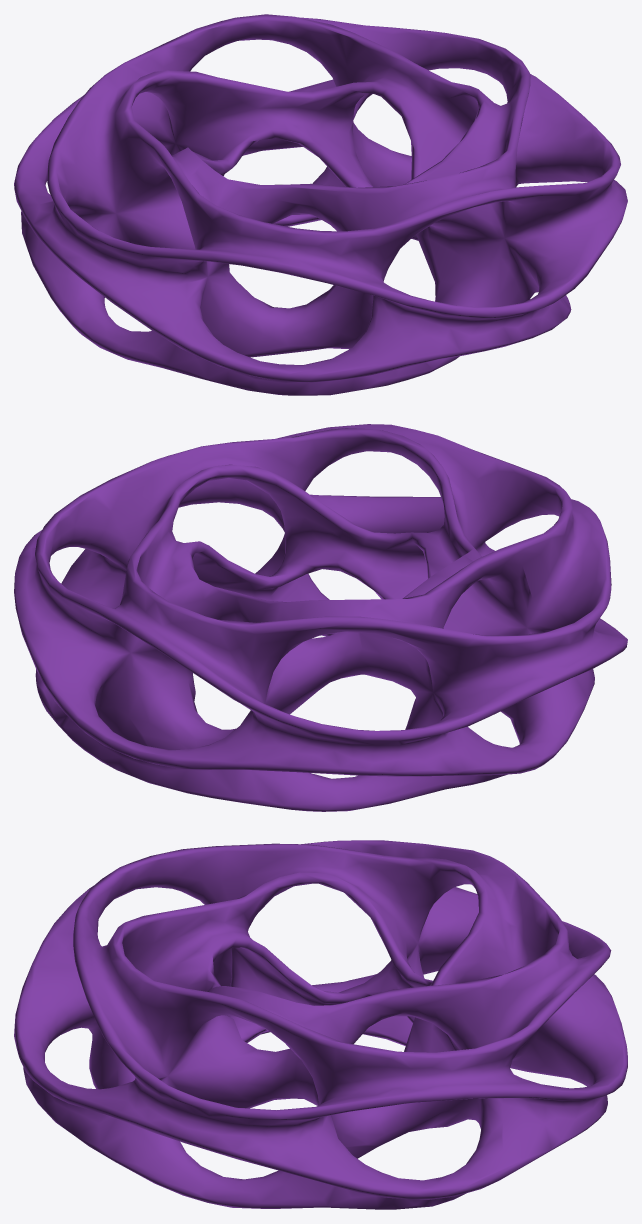
File: heptoroid8KN.obj
3 views of the same model, one above another, from view 1: azimuth 30°, elevation 25°; view 2: azimuth 150°, elevation 25°; view 3: azimuth 270°, elevation 25° (orthographic). The views are drawn at different scales.
Size of the model in its own units: 6.68 by 2.4 by 6.69.
